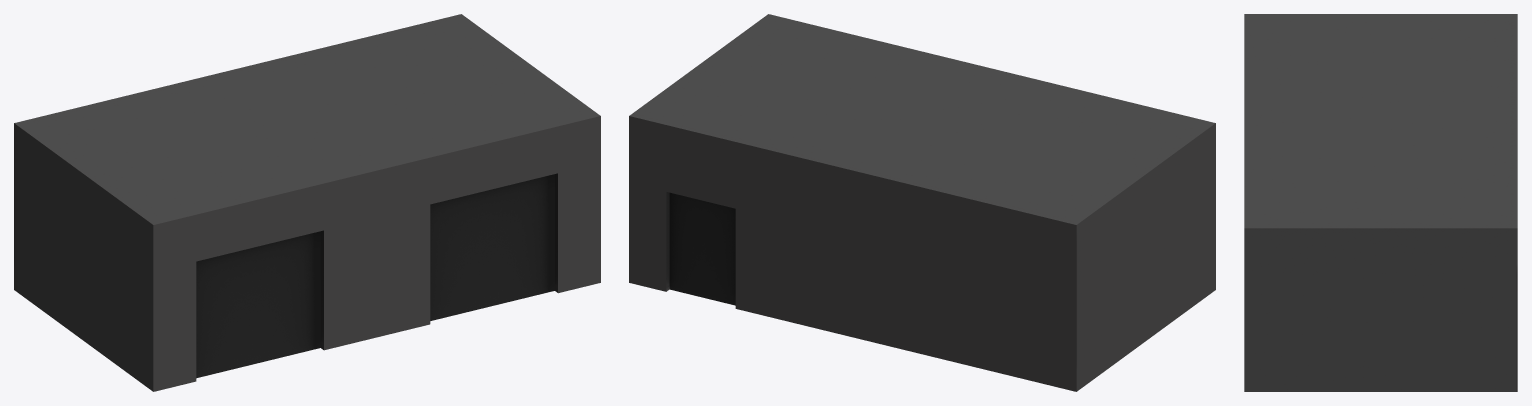
File: Supply_Shack.fbx
The picture shows the model from 3 angles, left to right: view 1: azimuth 30°, elevation 25°; view 2: azimuth 150°, elevation 25°; view 3: azimuth 270°, elevation 25°; orthographic projection.
Parts seen in each view (by area): view 1: Supply_Shack; view 2: Supply_Shack; view 3: Supply_Shack.
Boxes of the visible parts, x1,y1,x2,y2 form: Supply_Shack: (14,14,600,391); Supply_Shack: (629,14,1215,391); Supply_Shack: (1244,14,1517,391).
Bounding box in the file's own units: 42.02 × 14.98 × 22.66.
